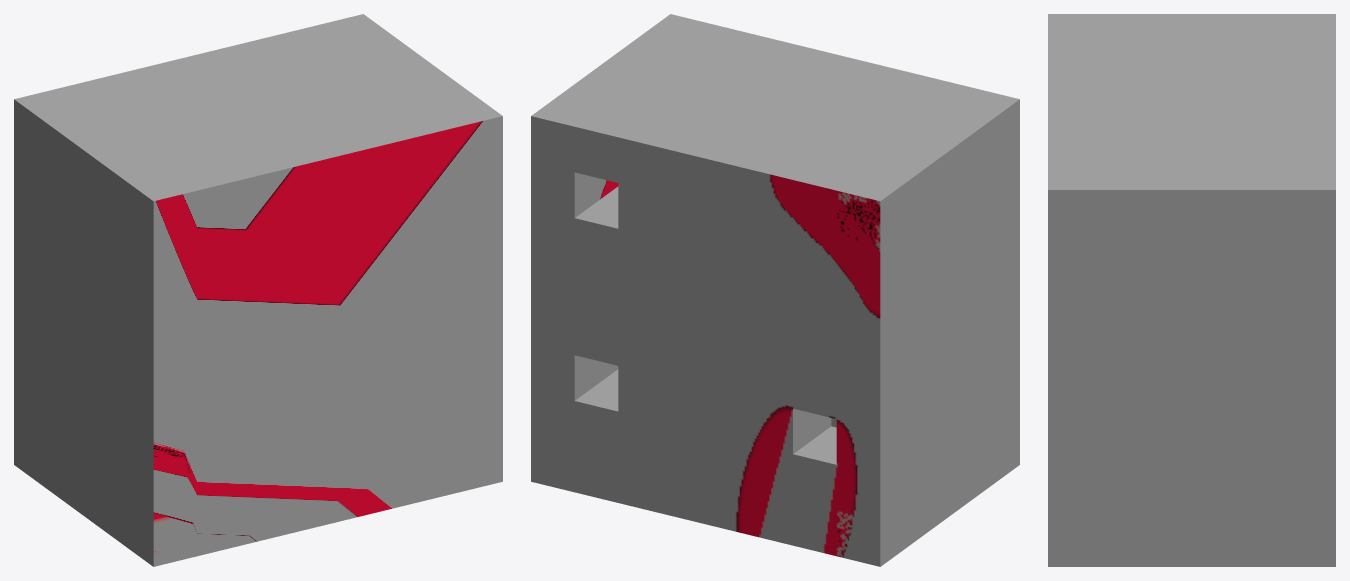
File: terrain1.obj
3 renders of one model, left to right at view 1: azimuth 30°, elevation 25°; view 2: azimuth 150°, elevation 25°; view 3: azimuth 270°, elevation 25°, orthographic. The views are drawn at different scales.
Visible parts, largest first — view 1: Plane; view 2: Plane; view 3: Plane.
Boxes of the visible parts, <box> form: Plane: <box>14,14,502,566</box>; Plane: <box>531,14,1019,566</box>; Plane: <box>1048,14,1335,566</box>.
Bounding box in the file's own units: 419 × 419 × 290.
1 material, 1 textured.
